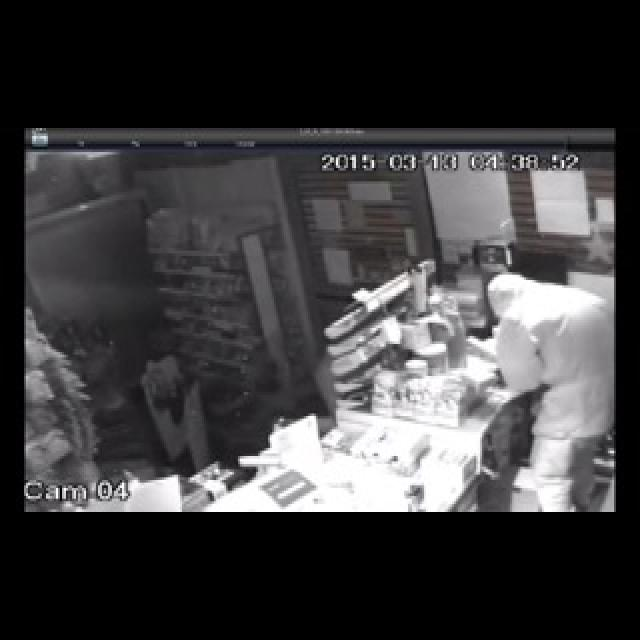thief: (476, 270, 620, 507)
